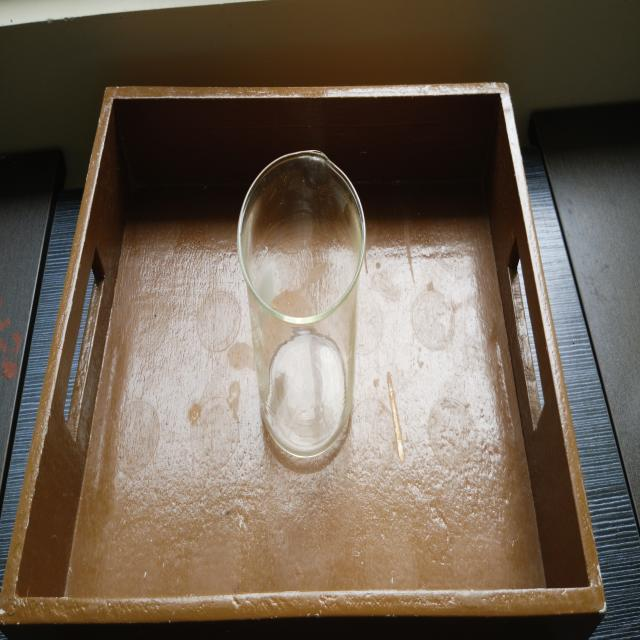beaker: (233, 141, 370, 468)
